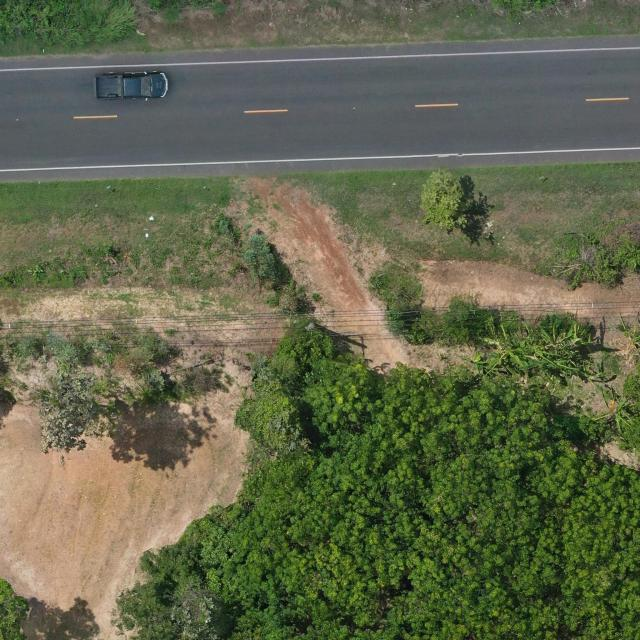Tree: (116, 357, 640, 640), (37, 359, 108, 458), (470, 324, 592, 376), (420, 167, 471, 234), (241, 234, 276, 292), (0, 577, 31, 640)
